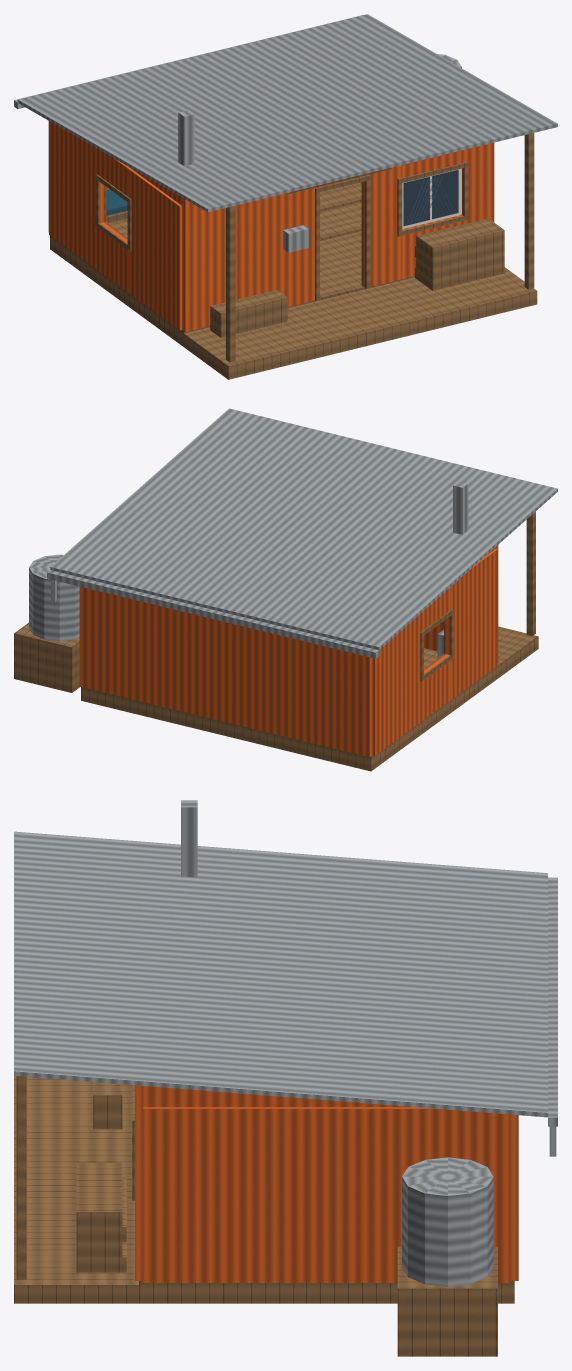
File: doc_hut.obj
3 views of the same model, one above another, from view 1: azimuth 30°, elevation 25°; view 2: azimuth 150°, elevation 25°; view 3: azimuth 270°, elevation 25° (orthographic). The views are drawn at different scales.
Visible parts, largest first — view 1: roof, walls, veranda, floor, woodpile, trim, glass, furniture, chimney, bunks; view 2: roof, walls, tank, floor, veranda, trim, chimney; view 3: roof, walls, veranda, tank, floor, woodpile, chimney.
Part boxes in pixels (x1=…): roof: x1=14, y1=14, x2=557, y2=212; walls: x1=48, y1=121, x2=494, y2=331; veranda: x1=184, y1=133, x2=537, y2=379; floor: x1=50, y1=202, x2=414, y2=346; woodpile: x1=415, y1=218, x2=504, y2=290; trim: x1=95, y1=162, x2=468, y2=300; glass: x1=402, y1=168, x2=461, y2=228; furniture: x1=320, y1=182, x2=361, y2=241; chimney: x1=178, y1=110, x2=194, y2=165; bunks: x1=106, y1=189, x2=127, y2=223; roof: x1=47, y1=408, x2=557, y2=658; walls: x1=79, y1=545, x2=498, y2=757; tank: x1=14, y1=554, x2=79, y2=692; floor: x1=81, y1=648, x2=496, y2=771; veranda: x1=496, y1=511, x2=538, y2=679; trim: x1=420, y1=609, x2=453, y2=681; chimney: x1=453, y1=481, x2=468, y2=534; roof: x1=14, y1=831, x2=557, y2=1126; walls: x1=135, y1=1085, x2=518, y2=1282; veranda: x1=14, y1=1076, x2=138, y2=1303; tank: x1=397, y1=1126, x2=556, y2=1356; floor: x1=139, y1=1281, x2=514, y2=1303; woodpile: x1=76, y1=1162, x2=126, y2=1272; chimney: x1=181, y1=800, x2=197, y2=877.
Size of the model in its own units: 7.9 by 4 by 6.52.
6 materials, 6 textured.
